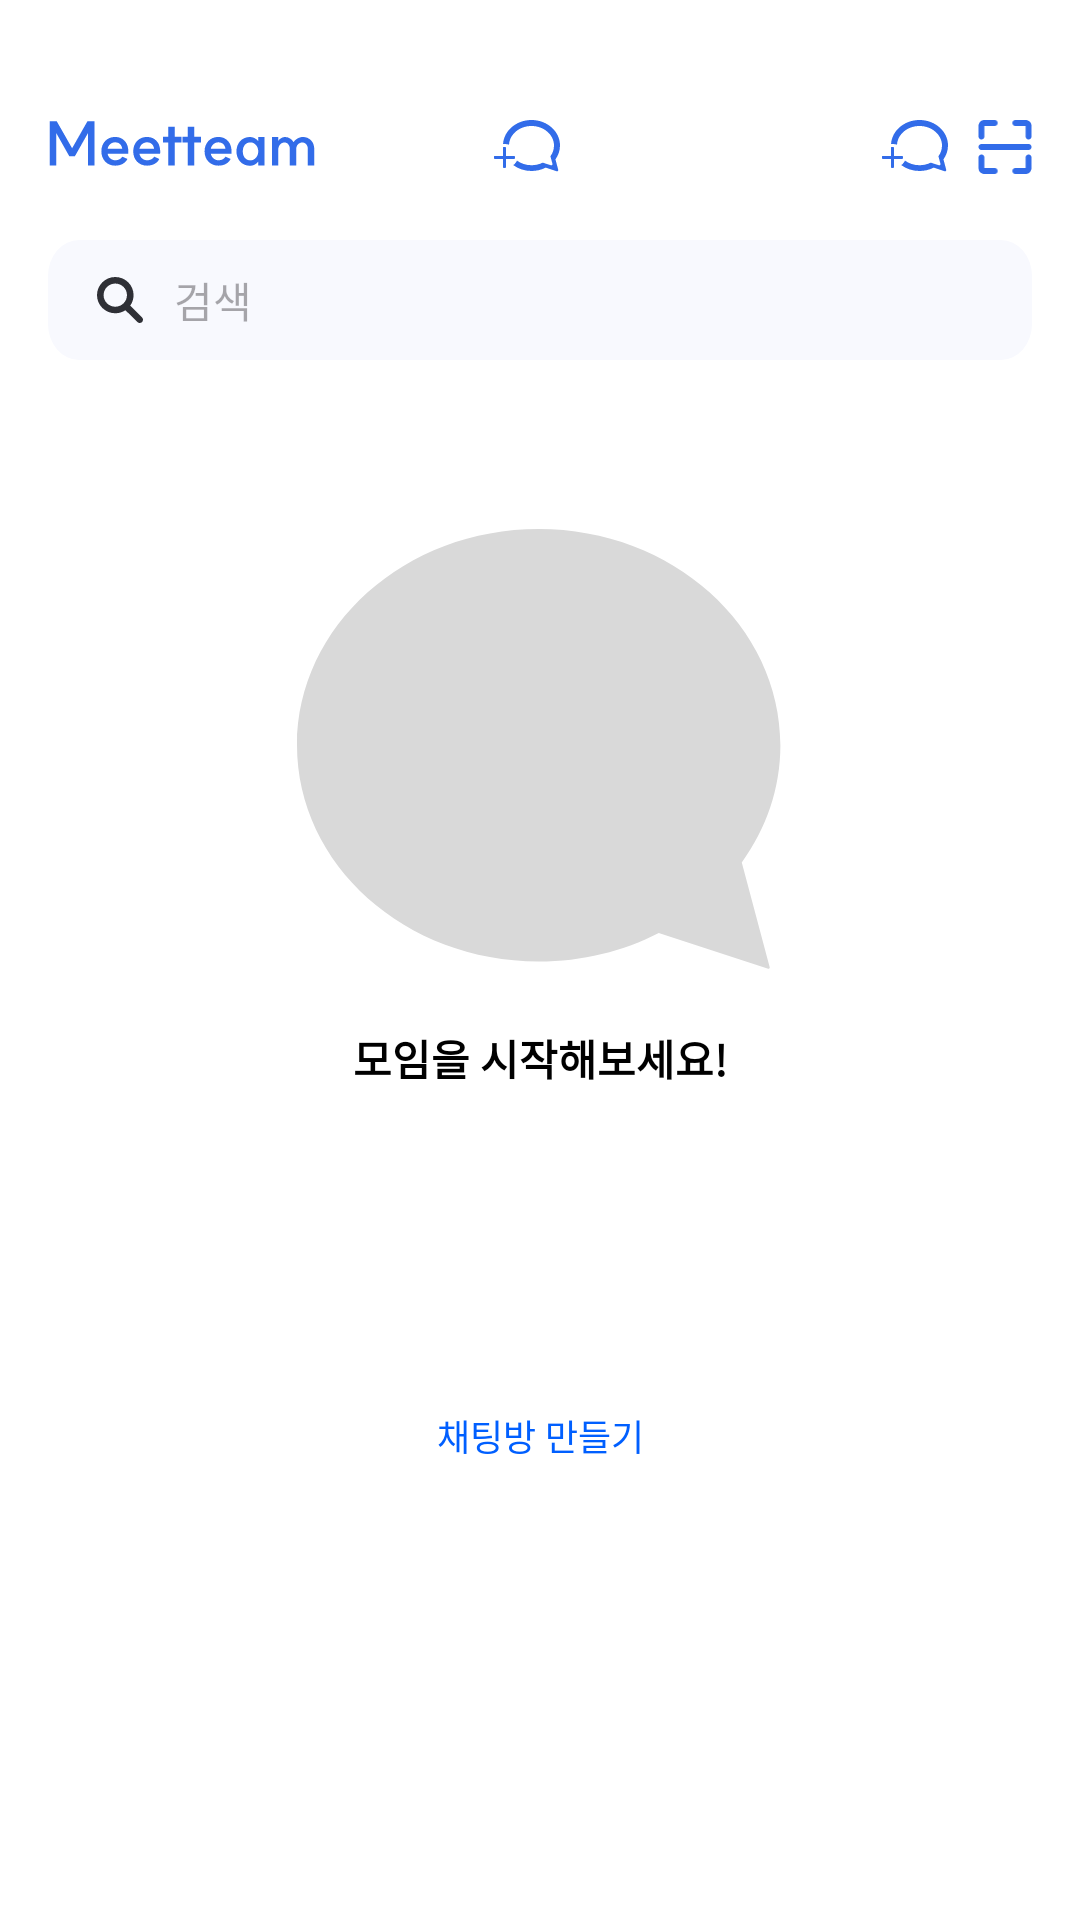

Locate icon controls on the screen. Image size 1080w x 1920h, boxes as [x1=x1, y1=y1, x2=x2, y2=y2].
chat add: [x1=494, y1=120, x2=560, y2=172], [x1=882, y1=120, x2=948, y2=172]
chat scan: [x1=978, y1=120, x2=1032, y2=174]
